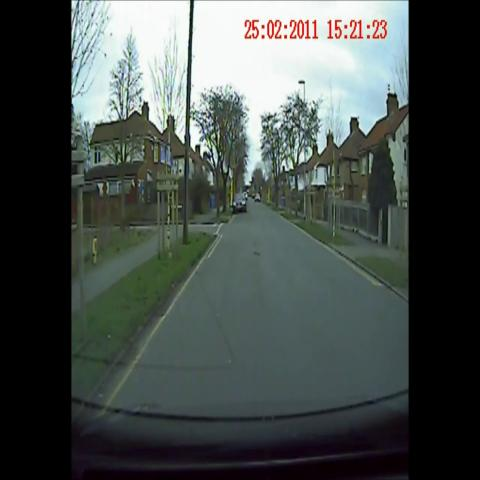pothole: (248, 244, 266, 267)
